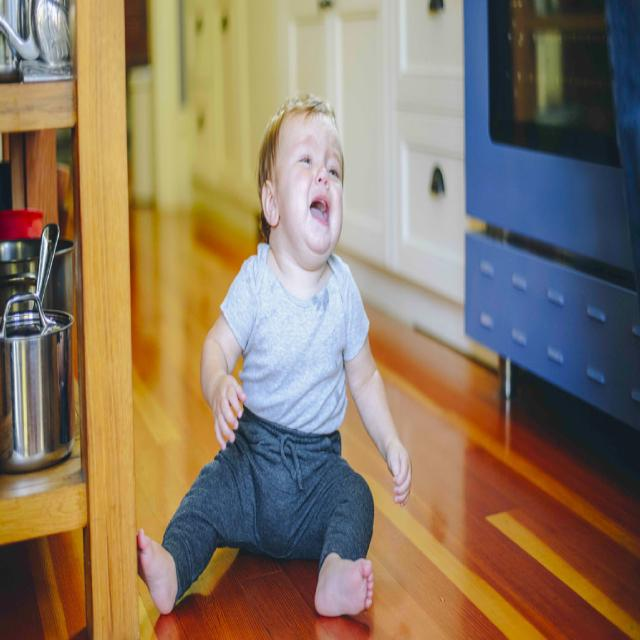child: (135, 90, 413, 616)
